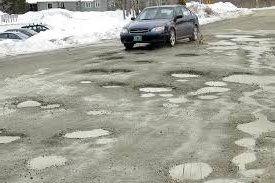pothole: (159, 158, 212, 179), (26, 148, 68, 171), (232, 114, 274, 133), (56, 127, 114, 140), (239, 45, 270, 64), (222, 70, 274, 81), (235, 86, 258, 107), (230, 148, 256, 165), (82, 105, 115, 118), (0, 130, 22, 147), (137, 82, 171, 93), (165, 93, 193, 104), (40, 100, 63, 113), (15, 97, 41, 108), (232, 136, 255, 147), (237, 167, 265, 176), (195, 85, 231, 92), (238, 35, 274, 42), (168, 70, 202, 77), (78, 76, 98, 85), (89, 65, 109, 74), (195, 93, 220, 100), (207, 39, 232, 46), (172, 49, 195, 56), (213, 31, 236, 38), (204, 79, 226, 86), (103, 81, 123, 88), (111, 66, 131, 73), (106, 54, 126, 61), (156, 92, 173, 97), (140, 92, 155, 97), (136, 59, 150, 64)
